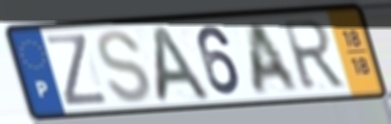6: (195, 23, 243, 99)
A: (153, 23, 215, 107), (248, 20, 302, 97)
R: (279, 17, 348, 94)
S: (94, 28, 154, 107)
Z: (43, 32, 112, 109)
